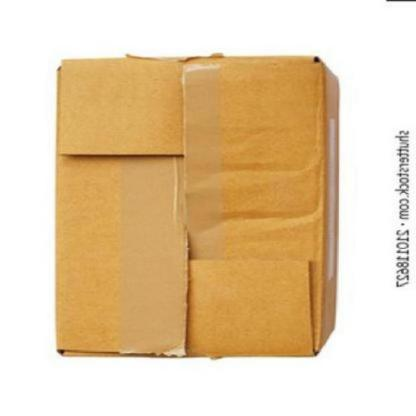box: (50, 45, 341, 366)
